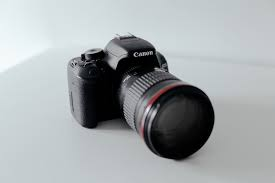camera: (68, 37, 214, 160)
